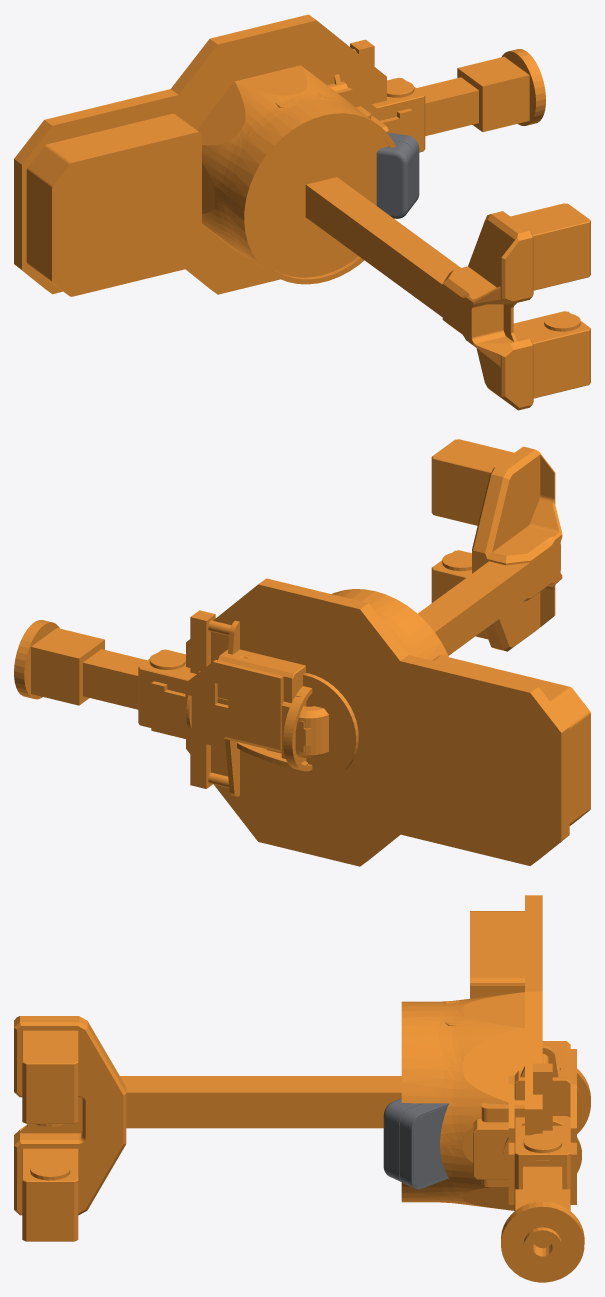
The model's file is arm.glb.
The picture shows the model from 3 angles, top to bottom: view 1: azimuth 30°, elevation 25°; view 2: azimuth 150°, elevation 25°; view 3: azimuth 270°, elevation 25°; orthographic projection. The views are drawn at different scales.
Visible parts, largest first — view 1: b1, b3, b4, b7, b5; view 2: b1, b3, b5, b2, b4, b7, b6; view 3: b3, b1, b4, b5, b7, b6.
Part boxes in pixels (x1,y1,x2,y2): b1: (14,14,395,296); b3: (305,177,590,410); b4: (416,49,545,135); b7: (334,39,419,218); b5: (327,77,425,152); b1: (186,578,590,866); b3: (297,439,562,757); b5: (138,649,312,771); b2: (240,637,390,813); b4: (14,620,328,757); b7: (190,610,306,796); b6: (186,671,307,770); b3: (14,1016,401,1241); b1: (401,895,542,1210); b4: (501,1166,584,1282); b5: (508,1041,590,1210); b7: (383,1045,581,1189); b6: (473,1103,581,1186).
Bounding box in the file's own units: 0.332 × 0.1531 × 0.2929.
